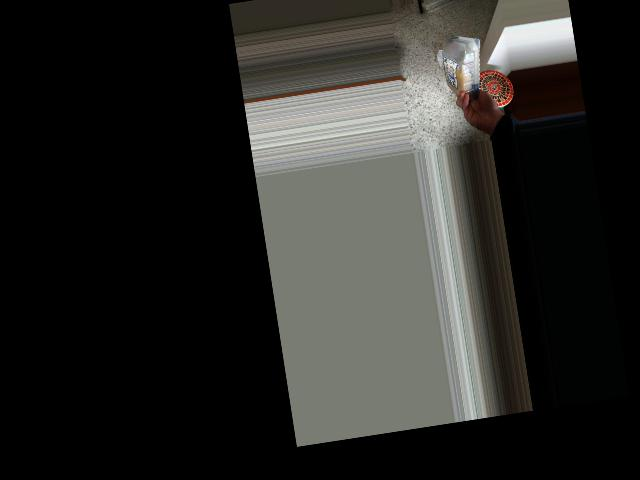cheese: (439, 31, 485, 101)
